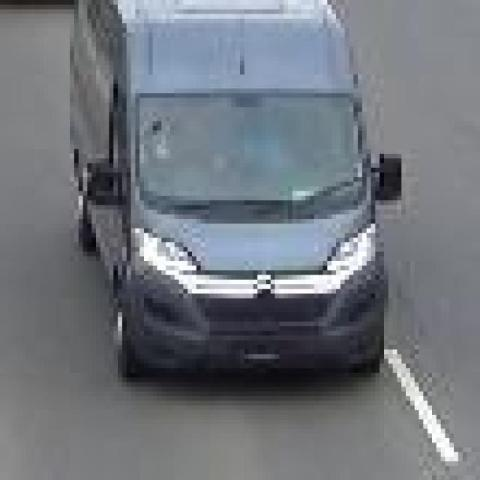van: (72, 0, 391, 382)
